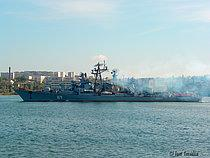MIL_Ship: (11, 59, 204, 102)
